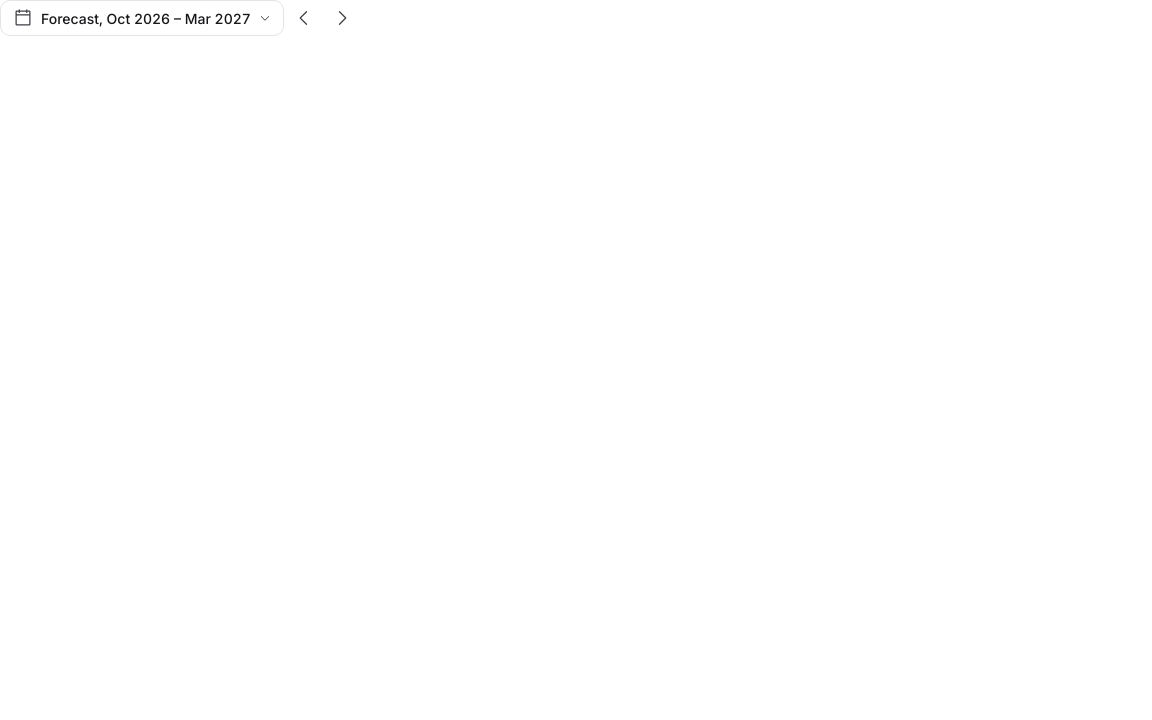
Test: PeriodPicker › opens the month grid on the year the period ends in
This screenshot has width=1152, height=720.
Step 1. Click the button "Forecast, Oct 2026 – Mar 2027" → (142, 18), box top-left (0, 0), bottom-right (284, 36)
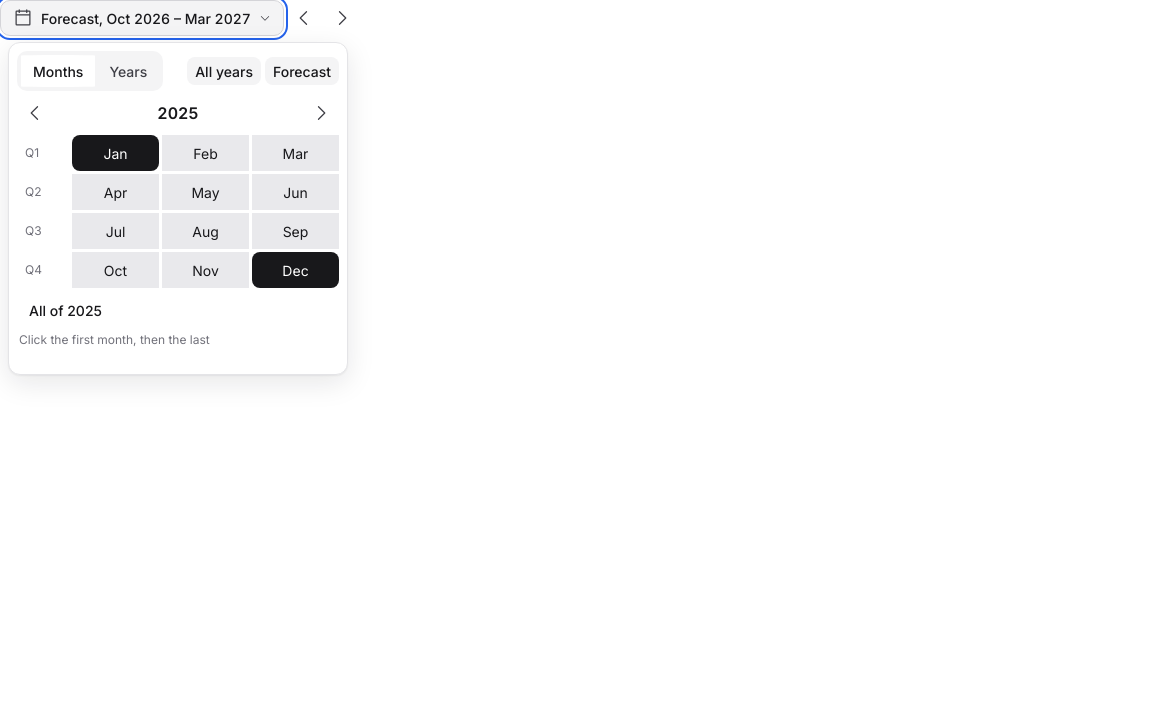
Expected: the button named "Choose a year" reads "2025", top-left (149, 99), bottom-right (207, 127)
